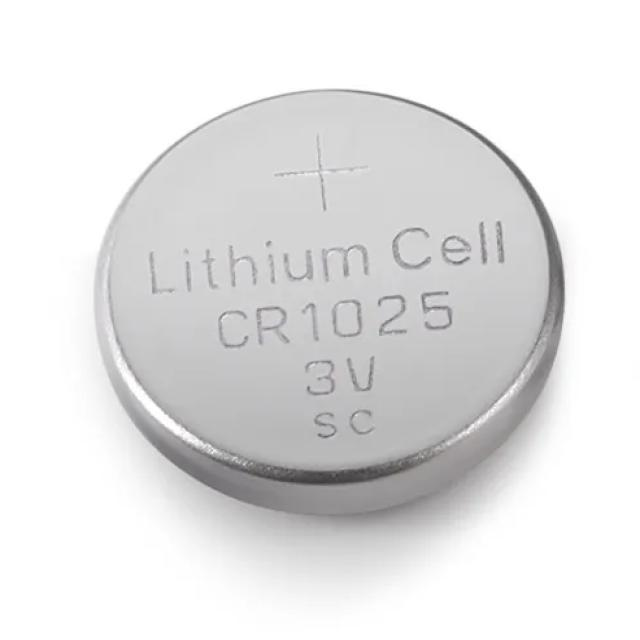COIN: (92, 86, 565, 516)
